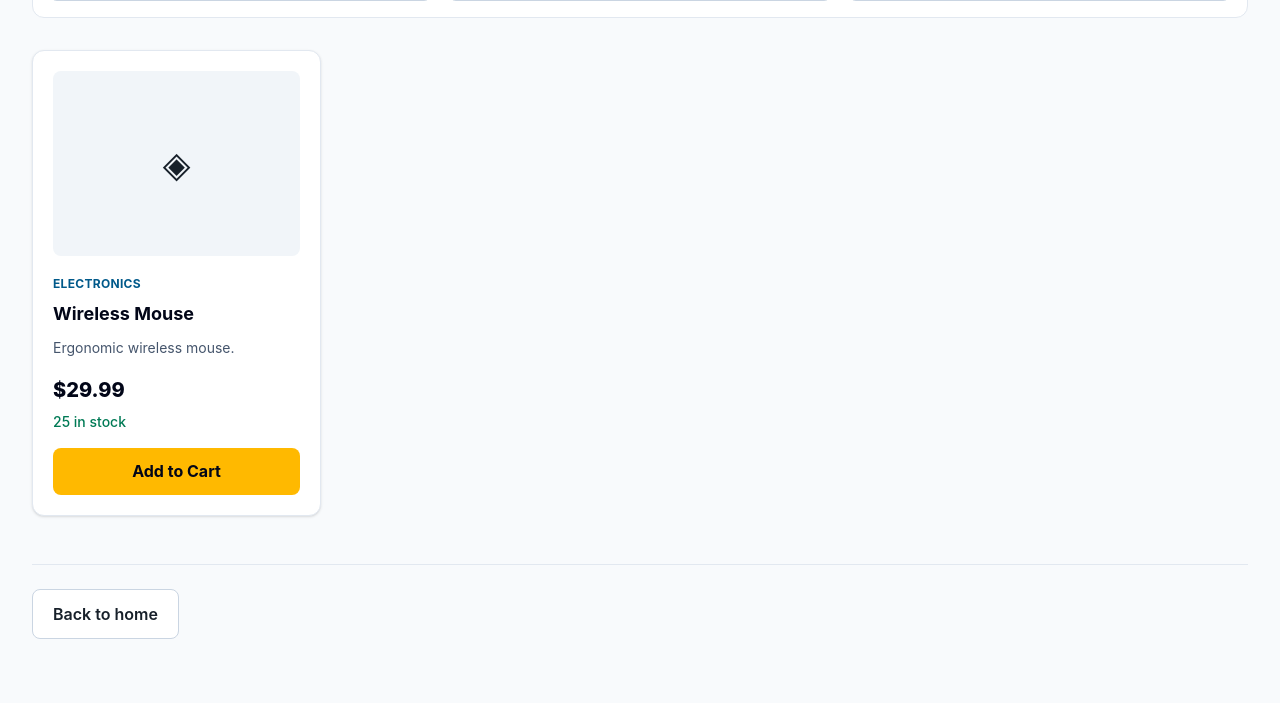
ProductsPage › adds an in-stock product to the cart
(page scrolled)
Expected: the heading "Wireless Mouse" is shown, [53, 303, 194, 324]
Click the button "Add to Cart".
click(176, 472)  # box [53, 448, 300, 495]
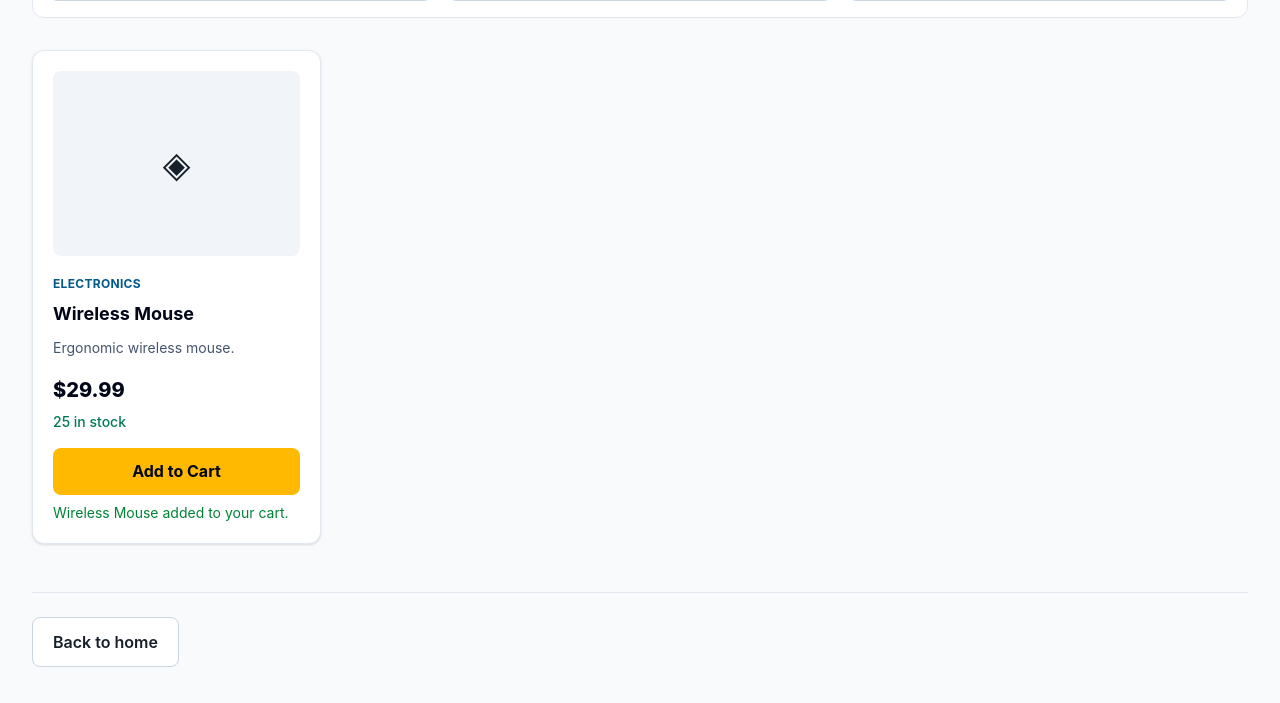
Expected: the message shows "Wireless Mouse added to your cart", [53, 504, 288, 521]
